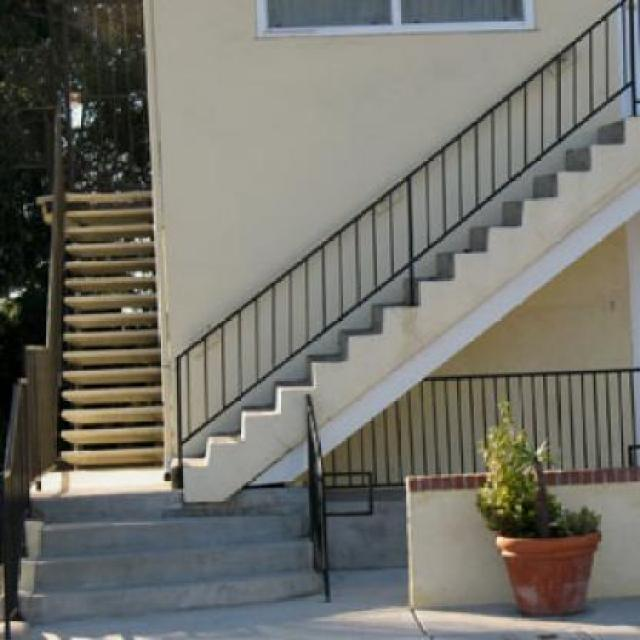stair: (152, 0, 638, 509), (21, 148, 174, 508)
